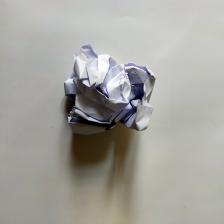Paper: (51, 43, 156, 148)
